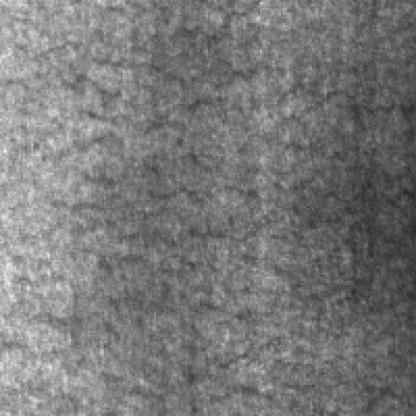crazing: (46, 51, 416, 243), (52, 250, 416, 414)
